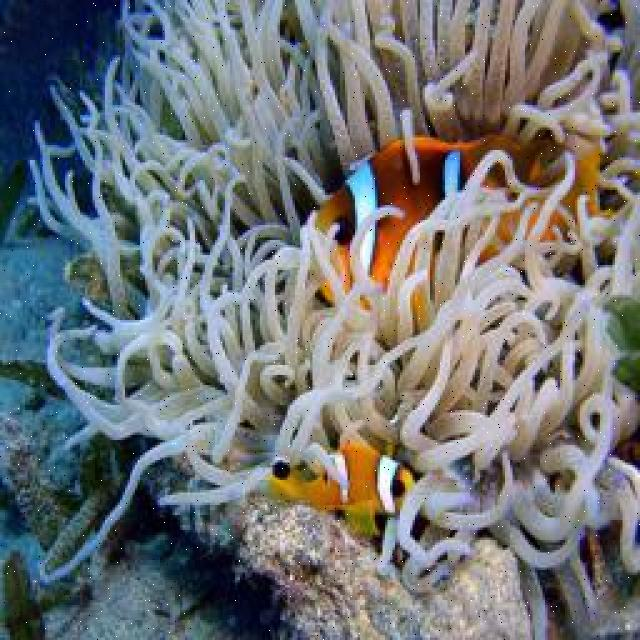fish: (315, 131, 600, 311), (258, 433, 416, 534)
reefs: (28, 0, 638, 635)
